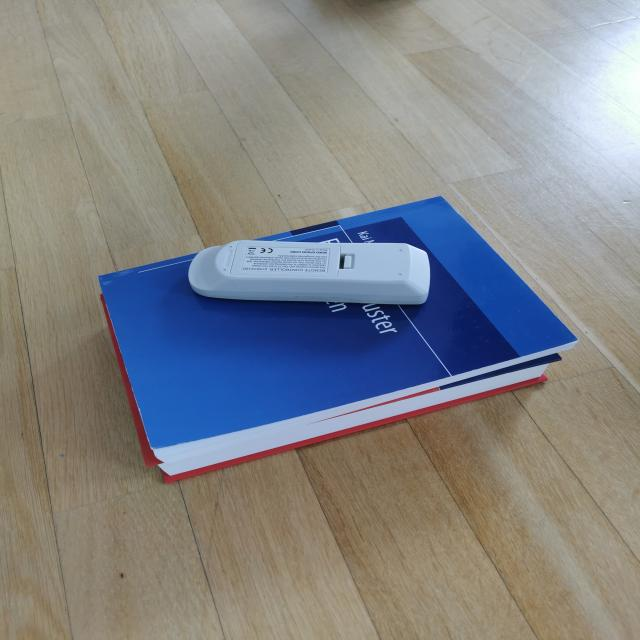remote: (189, 239, 435, 307)
